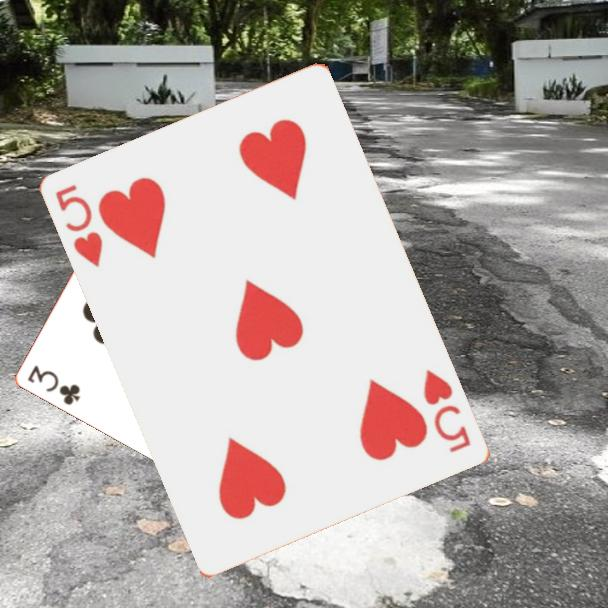c03: (24, 361, 84, 408)
h05: (52, 180, 107, 271), (420, 366, 474, 456)
